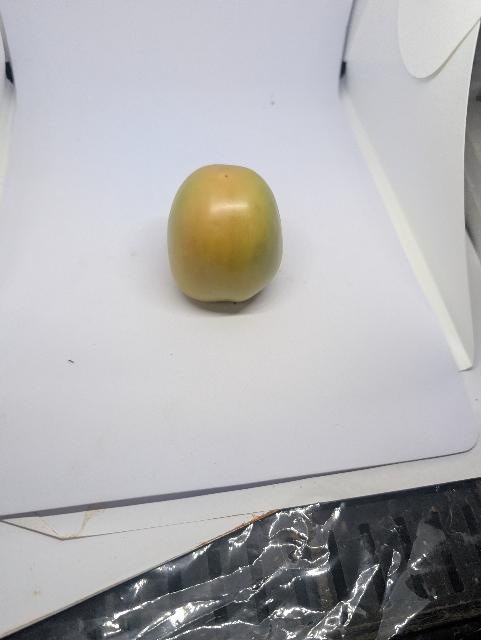breaker: (164, 164, 287, 307)
